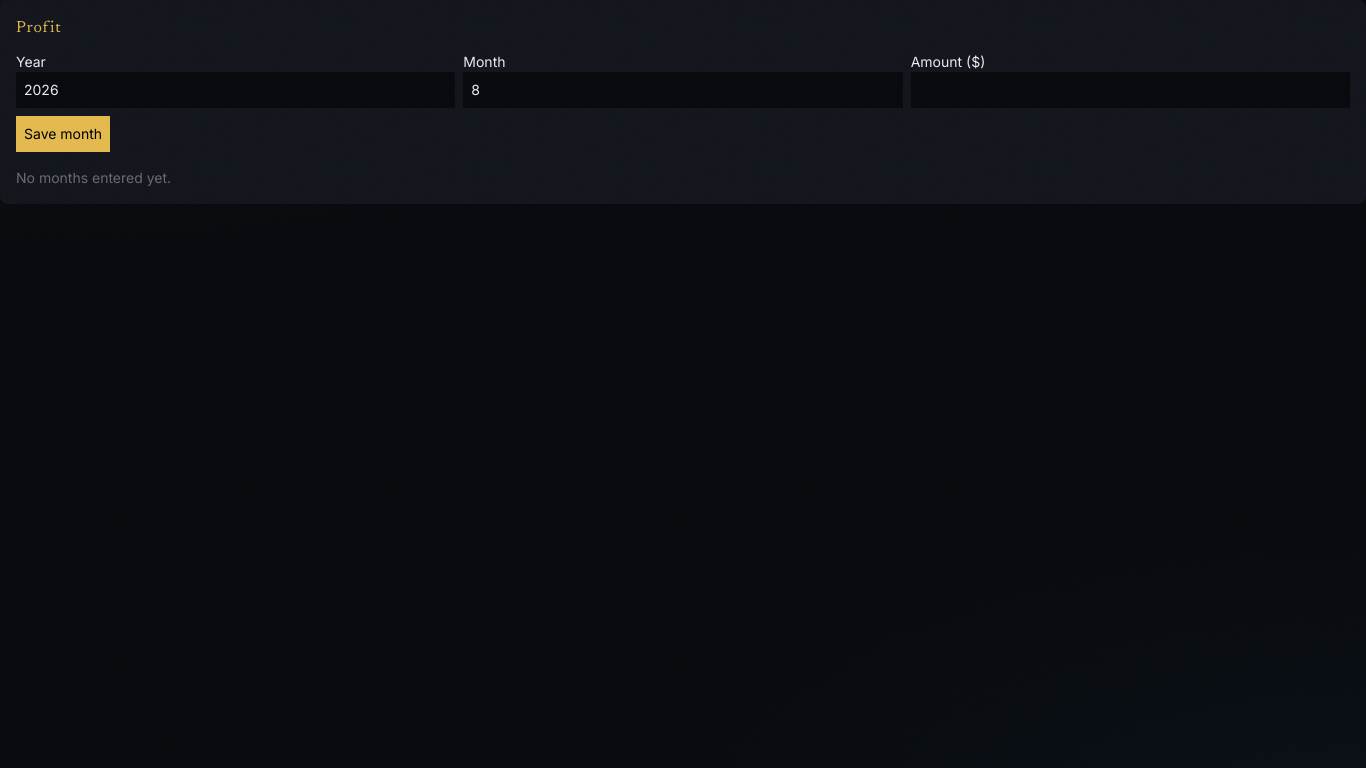
Scenario: MonthAmountAdmin › surfaces an action error
What coordinates should you click on to do the following:
click the button "Save month"
I would click on:
 (63, 134)
Its box is [16, 116, 110, 152].
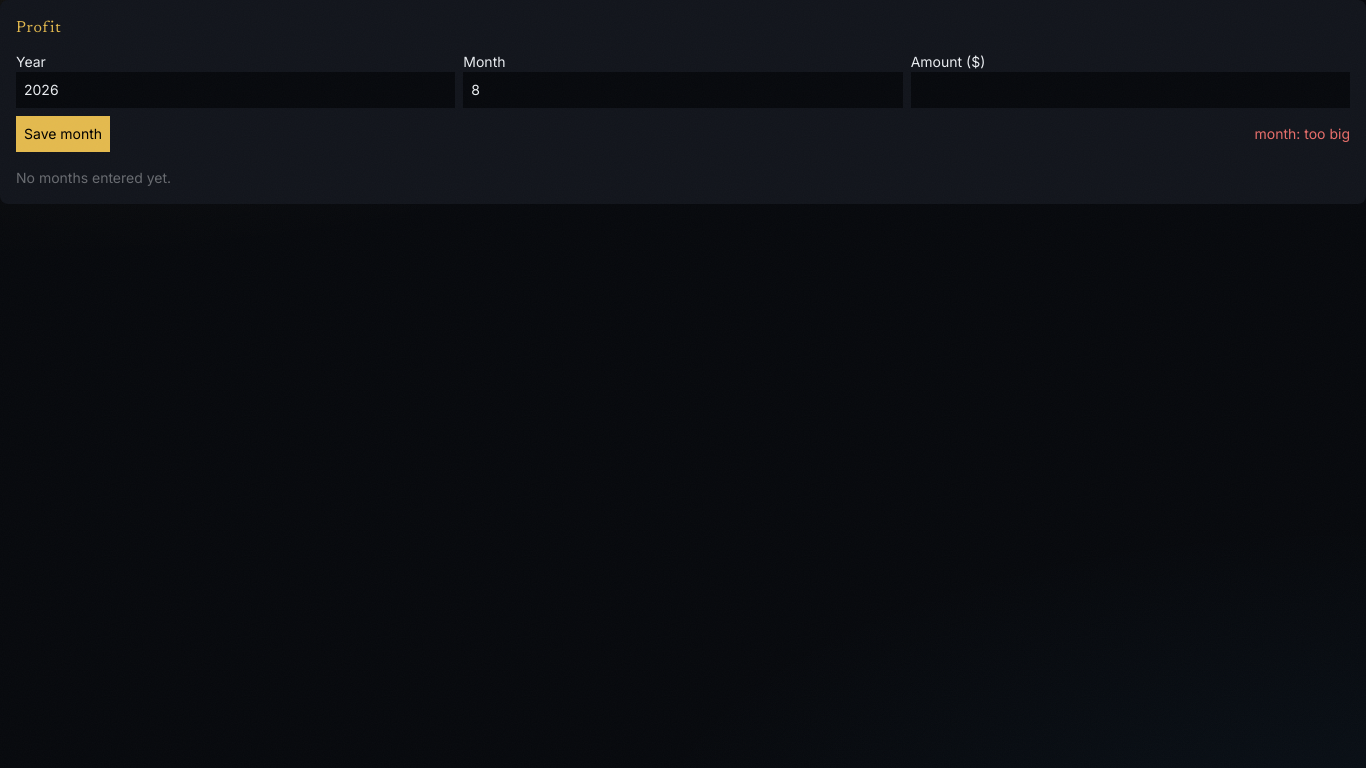
Expected: the message shows "too big", [1254, 125, 1350, 142]
